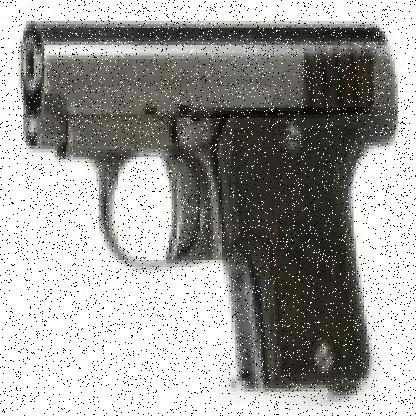pistol: (21, 17, 401, 398)
